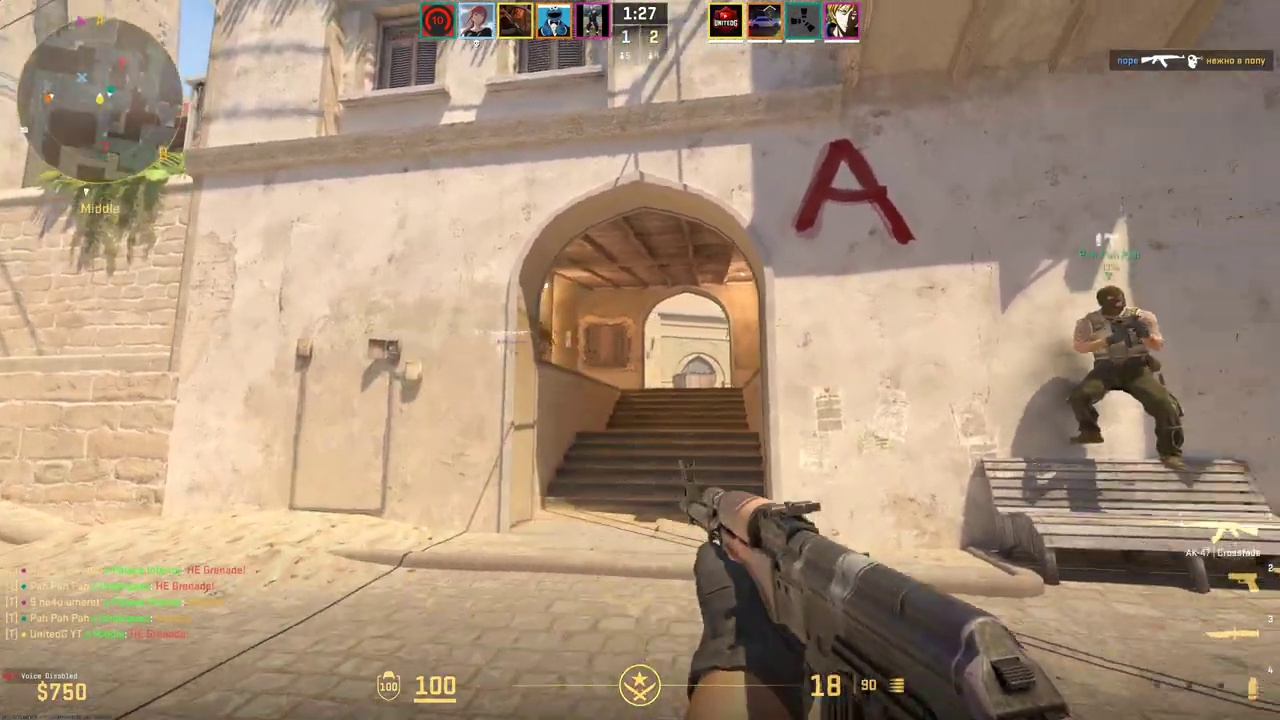Terrorist: (1067, 285, 1186, 466)
